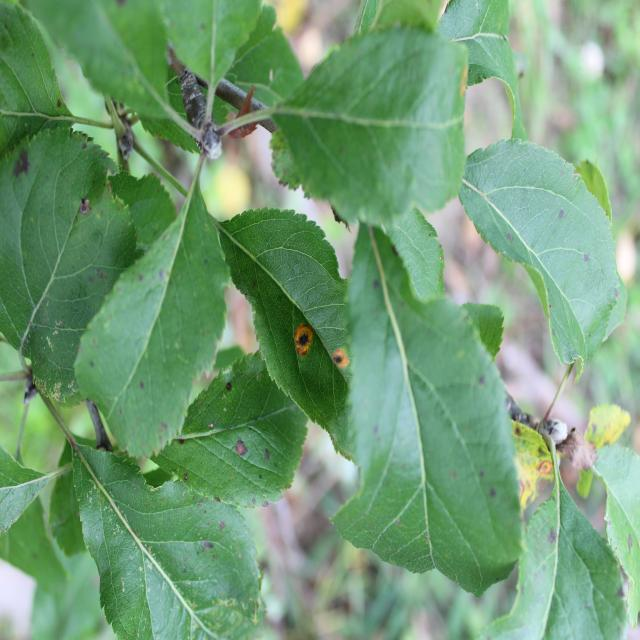Rust: (280, 304, 326, 369), (324, 341, 356, 398), (538, 445, 558, 505)
